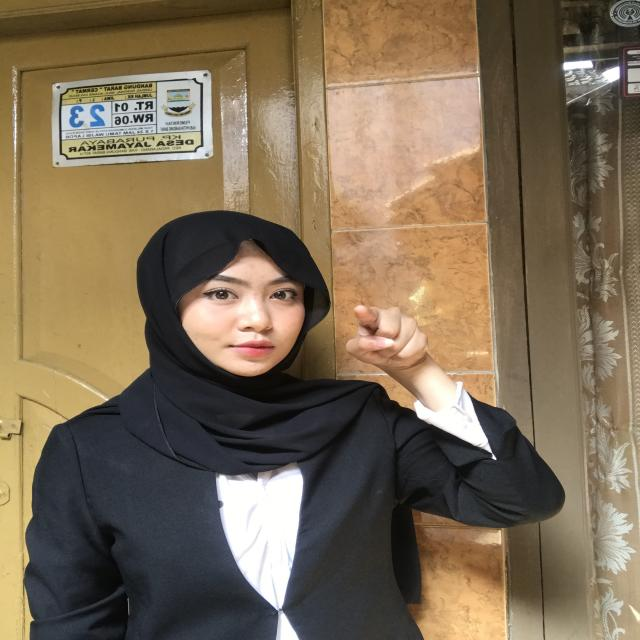kamu: (328, 294, 447, 404)
